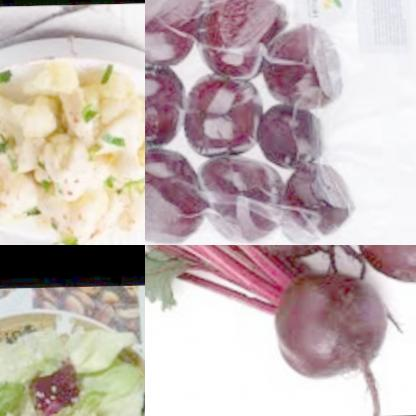beet: (260, 269, 395, 384), (257, 18, 359, 117), (193, 142, 289, 245), (189, 0, 294, 88), (183, 71, 269, 167), (277, 166, 366, 245), (145, 151, 210, 245), (145, 56, 201, 156), (253, 105, 329, 169), (145, 0, 202, 74), (342, 245, 416, 299), (216, 245, 345, 272)
cayliflower: (0, 46, 145, 245)
salad: (0, 318, 145, 416)
